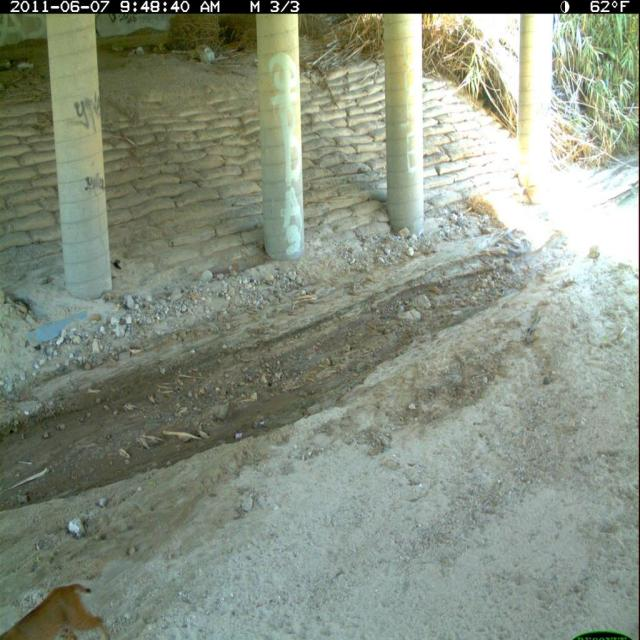bobcat: (1, 581, 114, 640)
